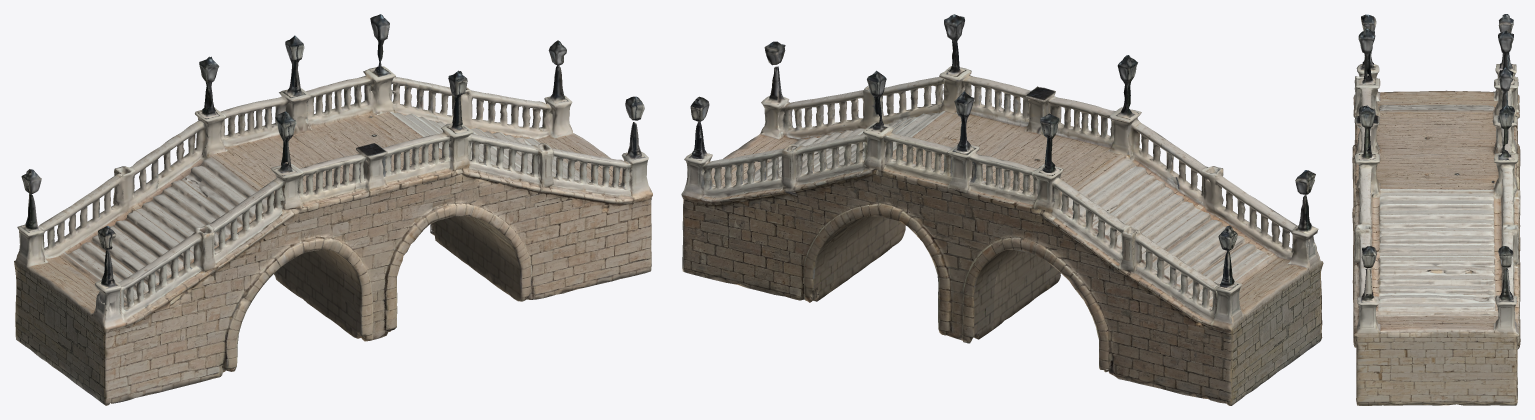
3 views of the same model, side by side, from view 1: azimuth 30°, elevation 25°; view 2: azimuth 150°, elevation 25°; view 3: azimuth 270°, elevation 25° (orthographic). The views are drawn at different scales.
Visible parts, largest first — view 1: texture_mapping; view 2: texture_mapping; view 3: texture_mapping.
Boxes of the visible parts, x1,y1,x2,y2 form: texture_mapping: (14, 14, 652, 405); texture_mapping: (681, 14, 1323, 405); texture_mapping: (1352, 14, 1520, 405).
Bounding box in the file's own units: 0.9937 × 0.4233 × 0.2928.
1 material, 1 textured.
